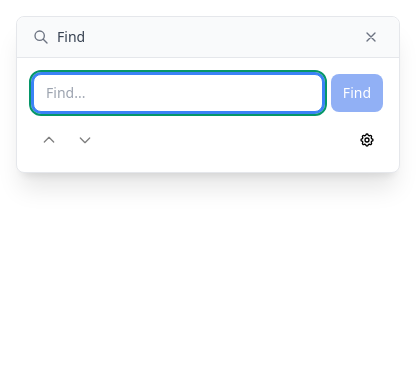
FindReplaceDialog Options State › should reflect searchIn option state
What coordinates should you click on to do the following:
click the 5th button
I would click on:
 (367, 140)
Its box is [351, 124, 383, 156].
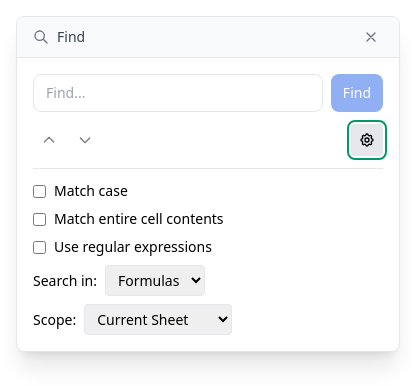
Now the dropdown next to "Search in:" shows "Formulas", box [105, 265, 205, 296]
